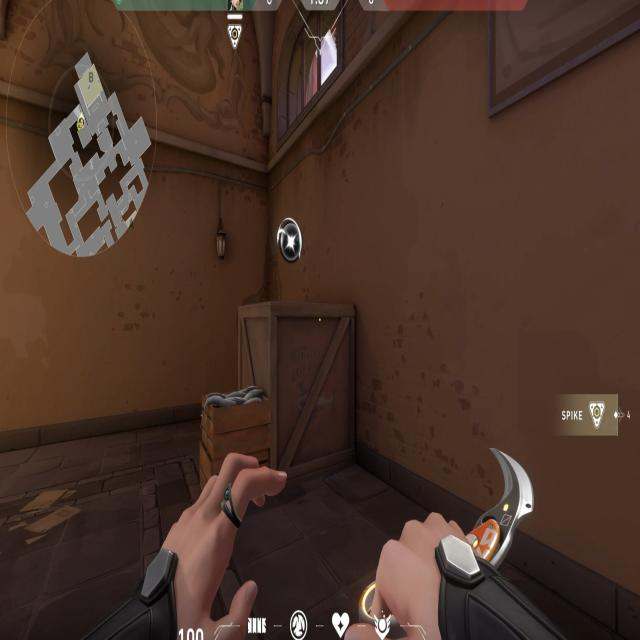B_Main_Wallbang: (208, 217, 314, 454)
Throwables: (271, 0, 352, 157)
